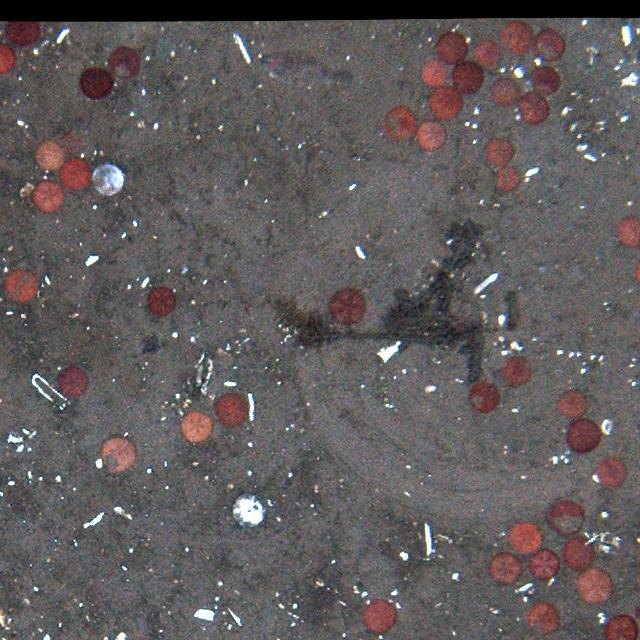flatfish: (258, 47, 358, 94)
